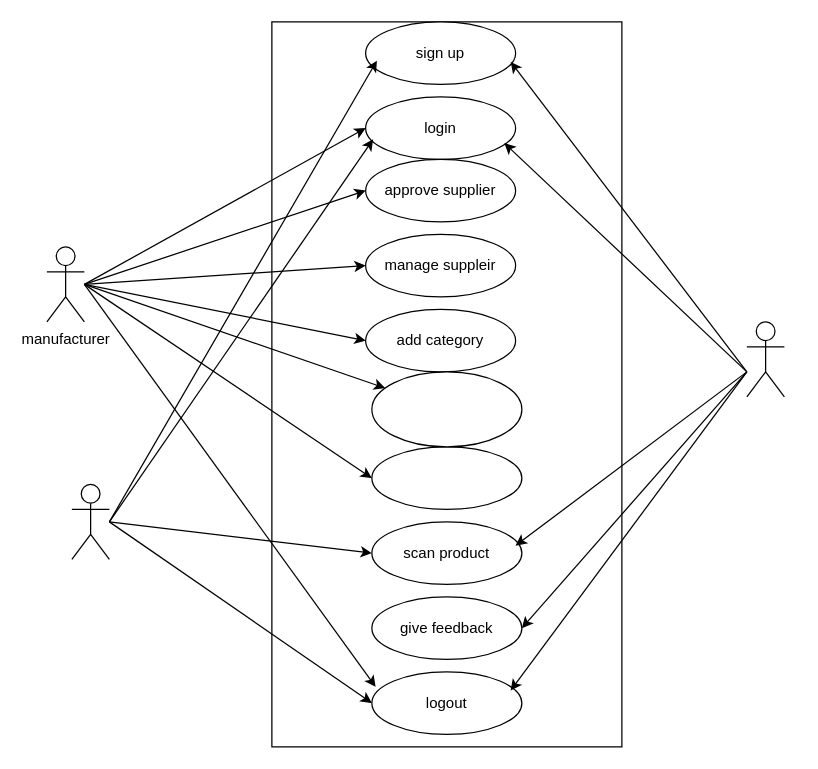
This 818x769 diagram has some shape labels left out. The centre of each missing label's shape, as x and y in pixels:
add products: pixel 446 409
customer: pixel 765 359
manage product: pixel 446 477
supplier: pixel 90 521
